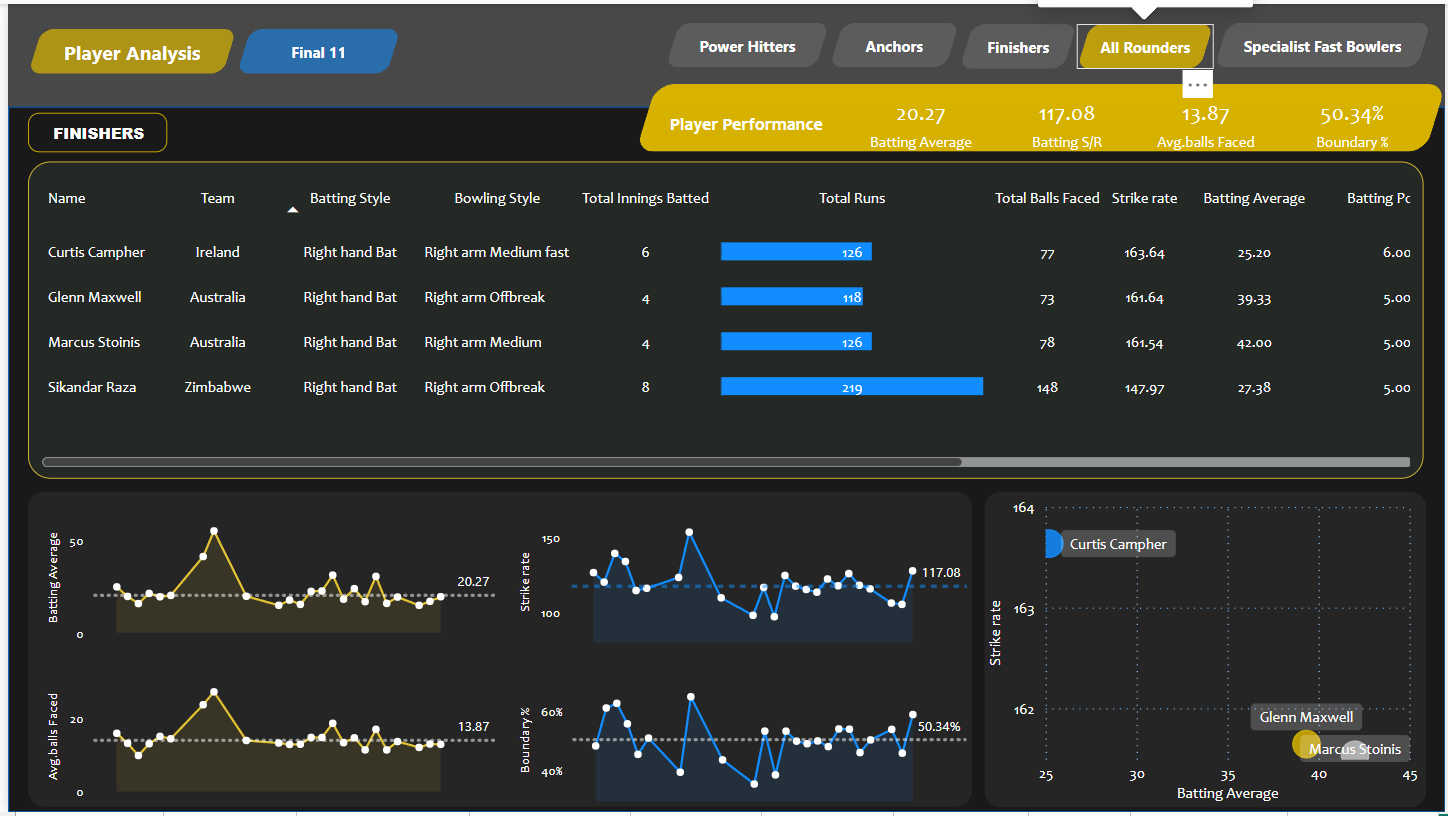

This screenshot's page, from the dashboard's own definition file:
{"tool":"powerbi","page":{"name":"Finisher List","canvas":[1280,720],"ordinal":4},"visuals":[{"type":"shape","box":[0,91.7,1279.6,628.3],"z":0},{"type":"shape","box":[558.5,71.4,721.8,60.4],"z":1000},{"type":"card","fields":{"Values":["Key Measure.Batting Average"]},"box":[747.9,74.1,130.4,61.7],"z":2000},{"type":"card","fields":{"Values":["Key Measure.Strike rate"]},"box":[878.2,71.4,130.4,68.6],"z":3000},{"type":"card","fields":{"Values":["Key Measure.Avg.balls Faced"]},"box":[1001.7,71.4,130.4,68.6],"z":4000},{"type":"card","fields":{"Values":["Key Measure.Boundary %"]},"box":[1132.1,71.4,130.4,68.6],"z":5000},{"type":"textbox","box":[584.6,91.9,163.3,39.8],"z":6000},{"type":"textbox","box":[18.1,96.5,124.2,35],"z":7000},{"type":"shape","box":[868.6,433.6,393.8,281.3],"z":8000},{"type":"shape","box":[18.1,434.2,840.6,281],"z":9000},{"type":"areaChart","fields":{"Y":["Key Measure.Batting Average"],"Category":["Match_summary.matchDate.Variation.Date Hierarchy.Day"]},"box":[30.2,447.4,408.8,126.6],"z":10000},{"type":"areaChart","fields":{"Y":["Key Measure.Strike rate"],"Category":["Match_summary.matchDate.Variation.Date Hierarchy.Day"]},"box":[449.8,447.4,408.8,126.6],"z":11000},{"type":"areaChart","fields":{"Category":["Match_summary.matchDate.Variation.Date Hierarchy.Day"],"Y":["Key Measure.Avg.balls Faced"]},"box":[30.2,588.5,408.8,126.6],"z":12000},{"type":"areaChart","fields":{"Y":["Key Measure.Boundary %"],"Category":["Match_summary.matchDate.Variation.Date Hierarchy.Day"]},"box":[449.8,588.5,408.8,126.6],"z":13000},{"type":"actionButton","box":[584.9,16.9,145.9,39.8],"z":14000},{"type":"actionButton","box":[730.9,16.9,115.8,39.8],"z":15000},{"type":"actionButton","box":[846.6,18.1,104.9,39.8],"z":16000},{"type":"actionButton","box":[951.6,18.1,121.8,39.8],"z":17000},{"type":"actionButton","box":[1073.4,16.9,193,39.8],"z":18000},{"type":"actionButton","box":[203.8,21.7,145.9,39.8],"z":19000},{"type":"actionButton","box":[18.1,21.7,185.7,39.8],"z":20000},{"type":"tableEx","fields":{"Values":["Players_Summary.name","Players_Summary.team","Players_Summary.battingStyle","Players_Summary.bowlingStyle","Key Measure.Total Innings Batted","Key Measure.Total Runs","Key Measure.Total Balls Faced","Key Measure.Strike rate","Key Measure.Batting Average","Key Measure.Batting Position","Key Measure.Boundary %","Key Measure.Wickets"]},"box":[18.1,139.9,1242.2,282.2],"z":21000},{"type":"scatterChart","fields":{"Y":["Key Measure.Strike rate"],"X":["Key Measure.Batting Average"],"Series":["Players_Summary.name"],"Category":["Players_Summary.name"]},"box":[868.3,434.2,392,281],"z":22000}]}

Visuals, with their boxes in screenshot pixels (x1, y1, x2, y2), scaled from the page's 1280x720 canvas onto the 1448x816 screenshot:
shape: (0,104,1447,815)
shape: (632,81,1447,149)
card - Key Measure.Batting Average: (846,84,994,154)
card - Key Measure.Strike rate: (993,81,1141,159)
card - Key Measure.Avg.balls Faced: (1133,81,1281,159)
card - Key Measure.Boundary %: (1281,81,1428,159)
textbox: (661,104,846,149)
textbox: (20,109,161,149)
shape: (983,491,1428,810)
shape: (20,492,971,811)
areaChart - Key Measure.Batting Average x Match_summary.matchDate.Variation.Date Hierarchy.Day: (34,507,497,651)
areaChart - Key Measure.Strike rate x Match_summary.matchDate.Variation.Date Hierarchy.Day: (509,507,971,651)
areaChart - Match_summary.matchDate.Variation.Date Hierarchy.Day x Key Measure.Avg.balls Faced: (34,667,497,810)
areaChart - Key Measure.Boundary % x Match_summary.matchDate.Variation.Date Hierarchy.Day: (509,667,971,810)
actionButton: (662,19,827,64)
actionButton: (827,19,958,64)
actionButton: (958,21,1076,66)
actionButton: (1076,21,1214,66)
actionButton: (1214,19,1433,64)
actionButton: (231,25,396,70)
actionButton: (20,25,231,70)
tableEx - Players_Summary.name x Players_Summary.team: (20,159,1426,478)
scatterChart - Key Measure.Strike rate x Key Measure.Batting Average: (982,492,1426,811)
